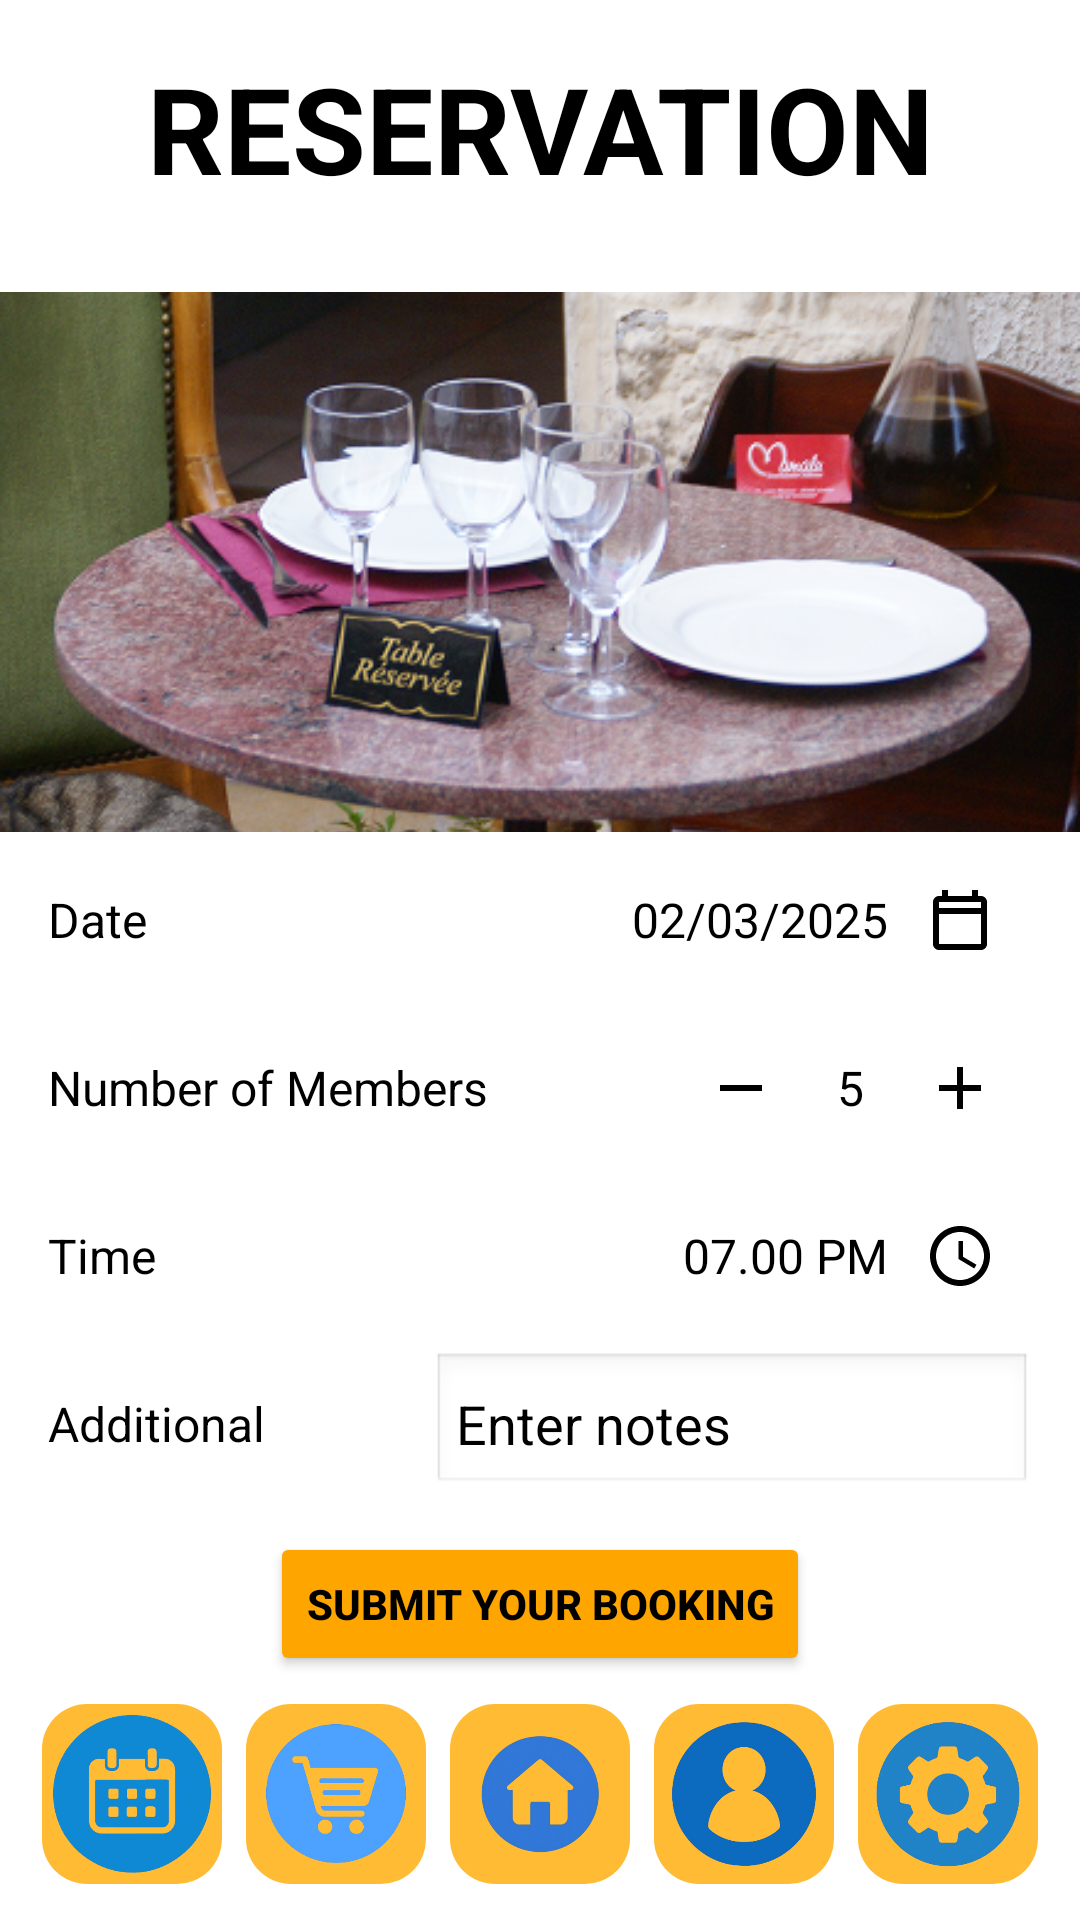

Icon click points for this 1080 × 1920 phone screenshot, format point (x, y):
Cart: point (336, 1794)
Home: point (540, 1794)
Increase: point (960, 1088)
Profile: point (744, 1794)
Select Date: point (960, 920)
Select Time: point (960, 1256)
Setting: point (948, 1794)
